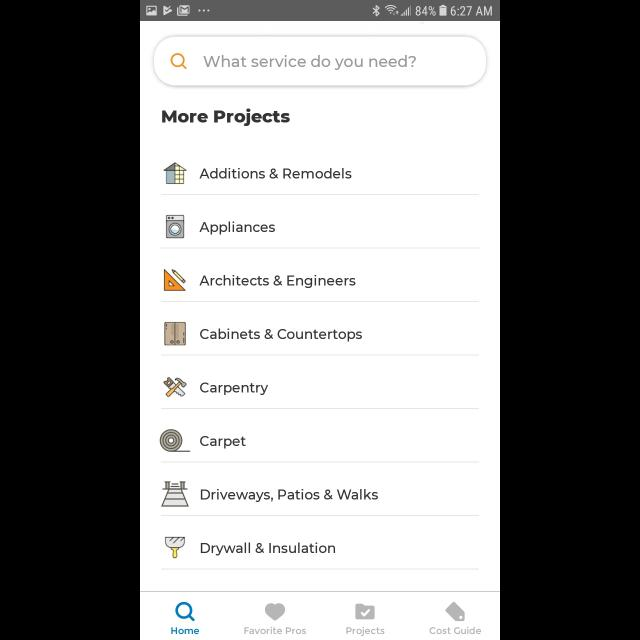icon: (445, 602, 465, 622), (176, 602, 196, 622), (265, 603, 285, 621), (355, 604, 375, 620), (171, 54, 187, 70)
image: (162, 481, 190, 507), (160, 430, 190, 452), (165, 322, 187, 346), (164, 162, 186, 184), (164, 269, 186, 291), (164, 377, 188, 397), (167, 215, 186, 239), (166, 536, 186, 558)
input: (154, 37, 486, 87)
text: (204, 56, 416, 70), (201, 489, 379, 503), (162, 109, 290, 127), (200, 328, 362, 342), (200, 275, 356, 289), (200, 542, 336, 556), (200, 168, 352, 180), (200, 221, 276, 235), (200, 382, 268, 396), (200, 436, 246, 448), (245, 626, 307, 634), (430, 626, 482, 634), (346, 626, 386, 636), (171, 626, 199, 634)
uppertaskbar: (140, 1, 500, 22)
